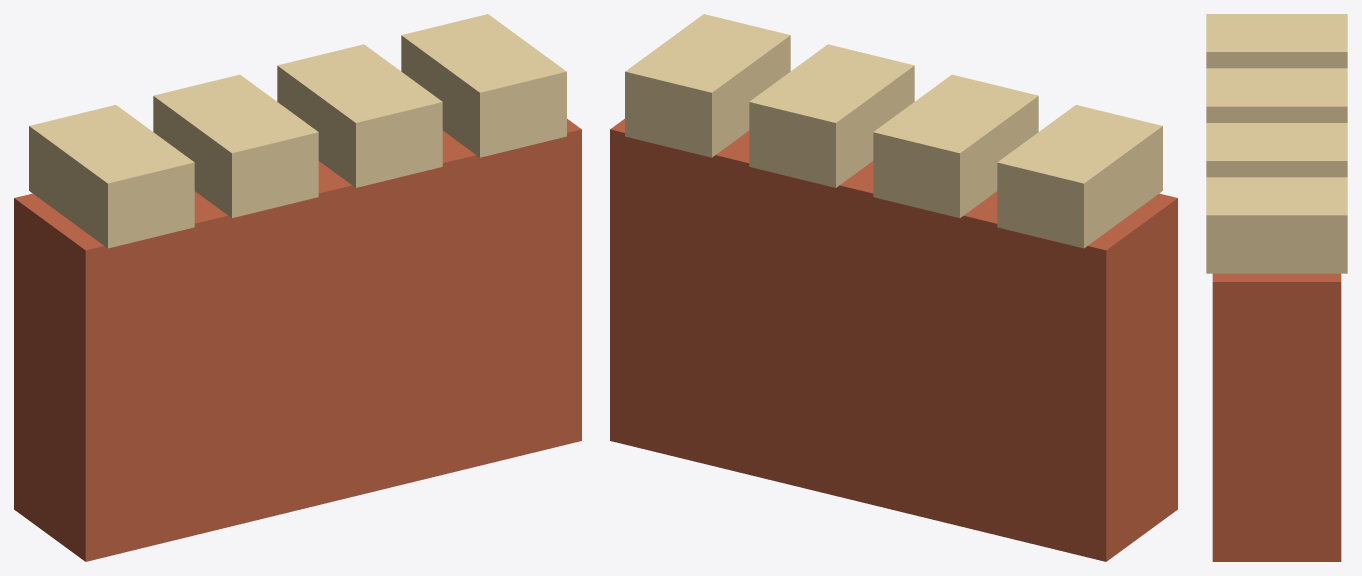
Rendered from blocky-wall.glb.
3 views of the same model, side by side, from view 1: azimuth 30°, elevation 25°; view 2: azimuth 150°, elevation 25°; view 3: azimuth 270°, elevation 25° (orthographic). The views are drawn at different scales.
Visible parts, largest first — view 1: wall; view 2: wall; view 3: wall.
Boxes of the visible parts, x1,y1,x2,y2 form: wall: (14, 14, 581, 561); wall: (610, 14, 1177, 561); wall: (1206, 14, 1347, 561).
Size of the model in its own units: 4 by 2.9 by 1.1.
